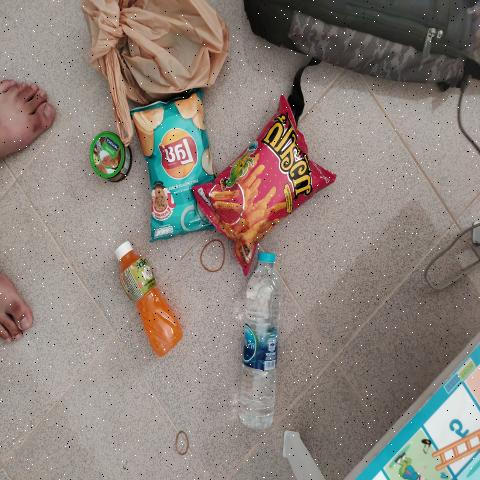crystal: (240, 254, 277, 427)
lay_blue: (155, 104, 198, 230)
twisco: (229, 114, 288, 250)
